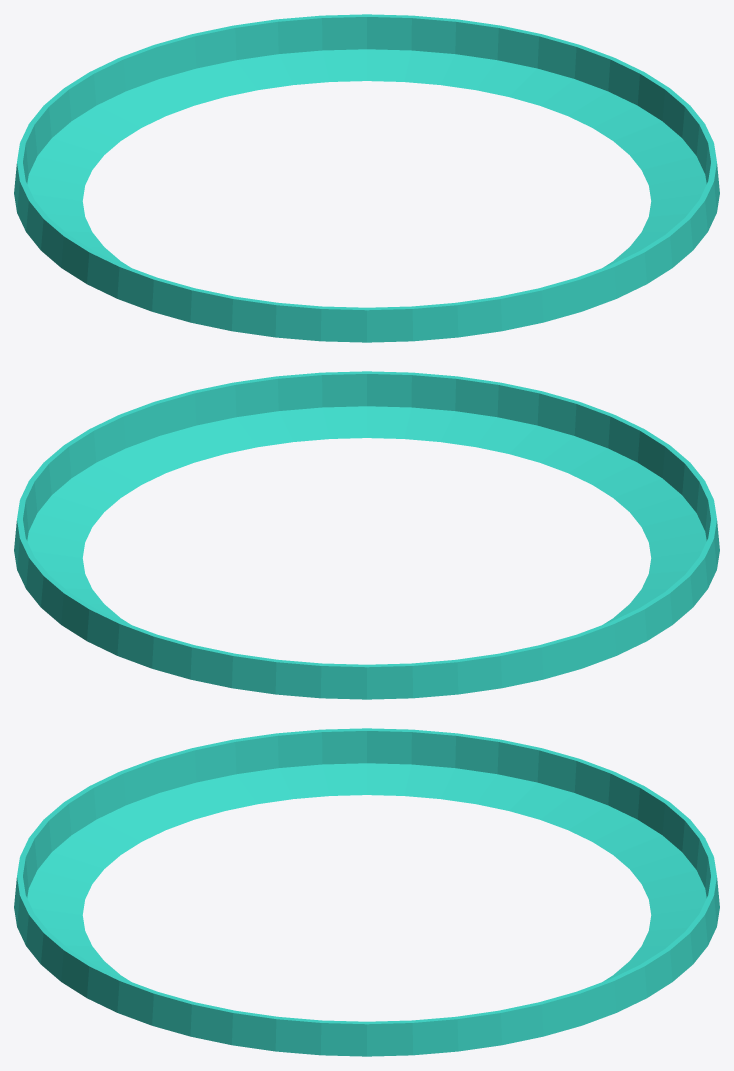
File: wall.fbx
3 views of the same model, one above another, from view 1: azimuth 30°, elevation 25°; view 2: azimuth 150°, elevation 25°; view 3: azimuth 270°, elevation 25° (orthographic).
Visible parts, largest first — view 1: Torus; view 2: Torus; view 3: Torus.
Boxes of the visible parts, left/top/right/bottom form: Torus: left=14, top=14, right=719, bottom=342; Torus: left=14, top=371, right=719, bottom=699; Torus: left=14, top=728, right=719, bottom=1056.
Bounding box in the file's own units: 3590 × 218 × 3590.
